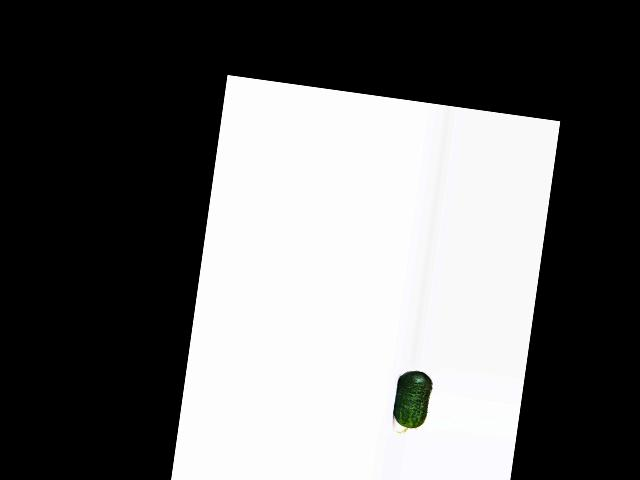cucumber: (390, 369, 434, 437)
